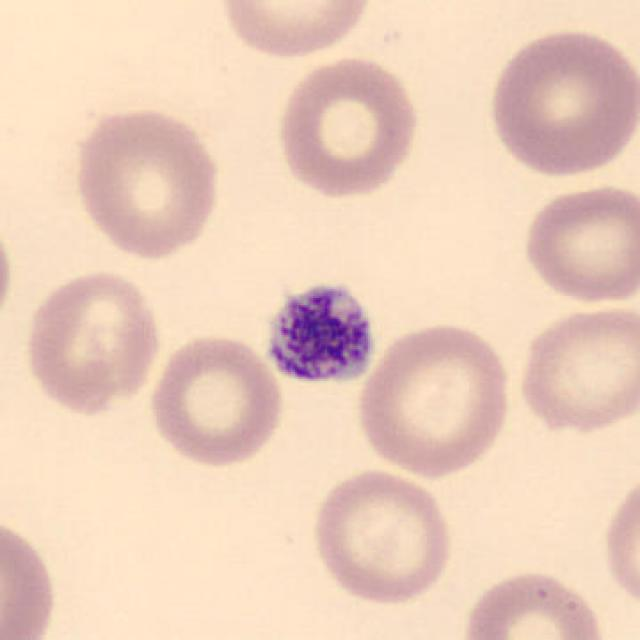Platelets: (260, 277, 378, 391)
RBC: (352, 318, 516, 480), (69, 102, 226, 263), (482, 23, 638, 180), (272, 51, 423, 201), (20, 266, 166, 418), (307, 466, 457, 608), (144, 330, 286, 469), (512, 300, 638, 437), (518, 180, 638, 307), (457, 566, 611, 640), (213, 0, 379, 62), (0, 509, 62, 640), (597, 466, 640, 617), (0, 208, 18, 340)
